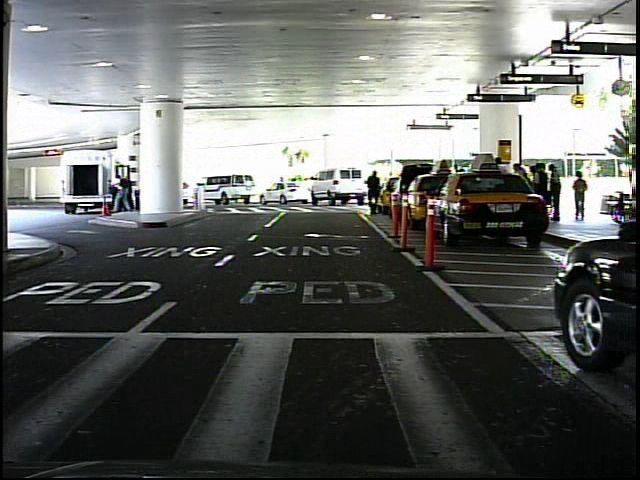person: (362, 164, 386, 220), (571, 169, 590, 226), (110, 174, 125, 215)
